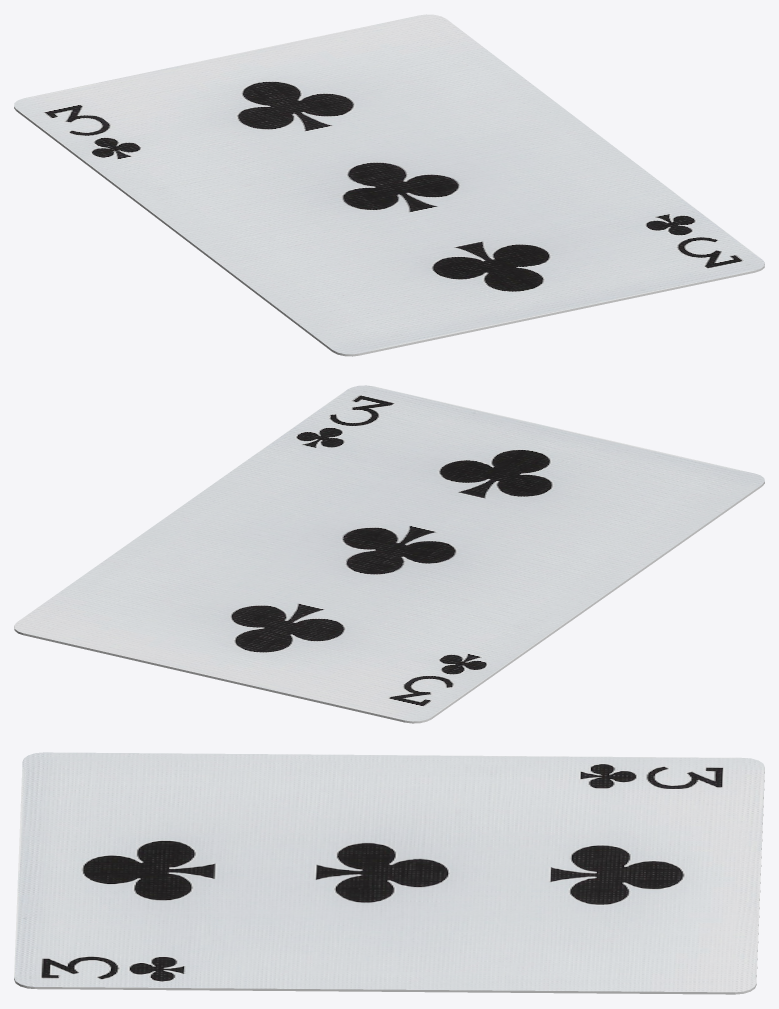
File: clubs3.fbx
The picture shows the model from 3 angles, top to bottom: view 1: azimuth 30°, elevation 25°; view 2: azimuth 150°, elevation 25°; view 3: azimuth 270°, elevation 25°; orthographic projection. The views are drawn at different scales.
Visible parts, largest first — view 1: Clubs_3_6; view 2: Clubs_3_6; view 3: Clubs_3_6.
Part boxes in pixels (box(x1,y1,x2,y2)): Clubs_3_6: box(14, 14, 764, 356); Clubs_3_6: box(14, 385, 764, 723); Clubs_3_6: box(14, 752, 764, 994).
Bounding box in the file's own units: 6.4 × 0.181 × 8.9.
